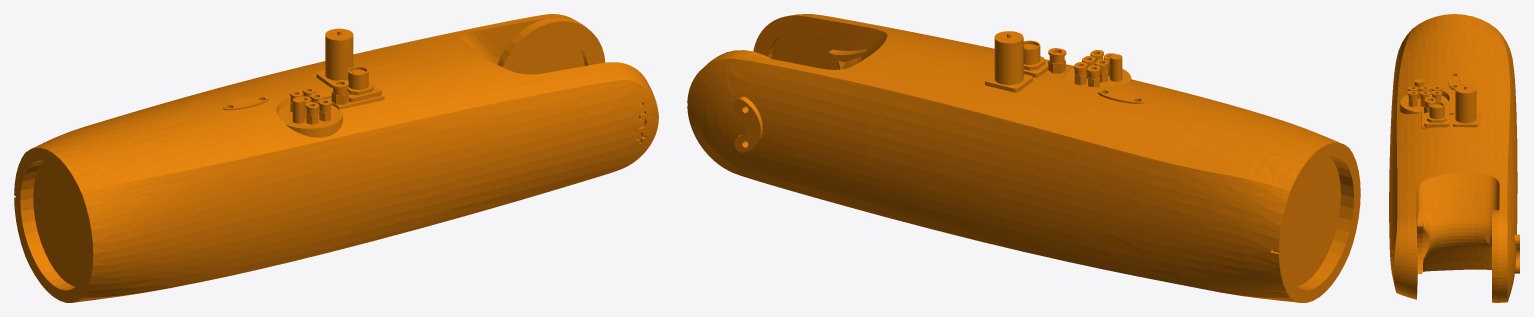
3 renders of one model, left to right at view 1: azimuth 30°, elevation 25°; view 2: azimuth 150°, elevation 25°; view 3: azimuth 270°, elevation 25°, orthographic. The views are drawn at different scales.
Visible parts, largest first — view 1: Link 4; view 2: Link 4; view 3: Link 4.
Part boxes in pixels (x1,y1,x2,y2): Link 4: (14, 14, 658, 302); Link 4: (687, 14, 1360, 302); Link 4: (1389, 14, 1519, 302).
Size of the model in its own units: 45.04 by 14.27 by 11.92.
